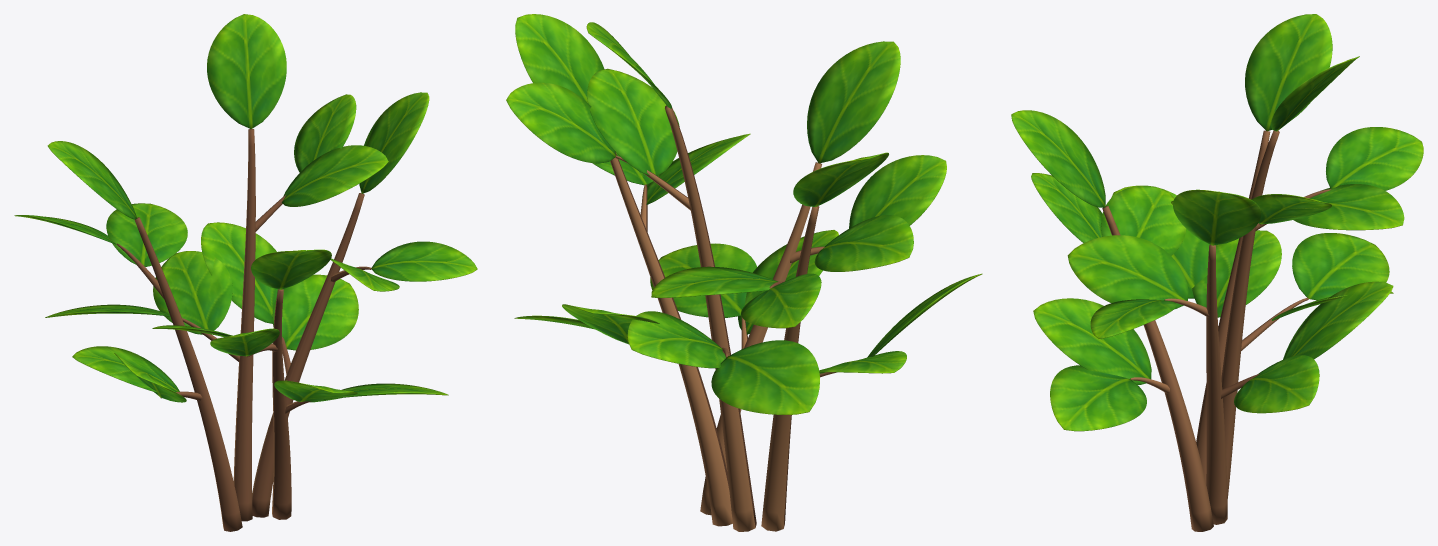
The model's file is NP_Blueberry_Young.fbx.
3 renders of one model, left to right at view 1: azimuth 30°, elevation 25°; view 2: azimuth 150°, elevation 25°; view 3: azimuth 270°, elevation 25°, orthographic. The views are drawn at different scales.
Parts seen in each view (by area): view 1: NP_Blueberry_Young; view 2: NP_Blueberry_Young; view 3: NP_Blueberry_Young.
Part boxes in pixels (bbox=[...]): NP_Blueberry_Young: bbox=[14, 14, 477, 531]; NP_Blueberry_Young: bbox=[506, 14, 982, 531]; NP_Blueberry_Young: bbox=[1011, 14, 1423, 531].
Size of the model in its own units: 39.09 by 48.51 by 37.05.
1 material, 1 textured.
